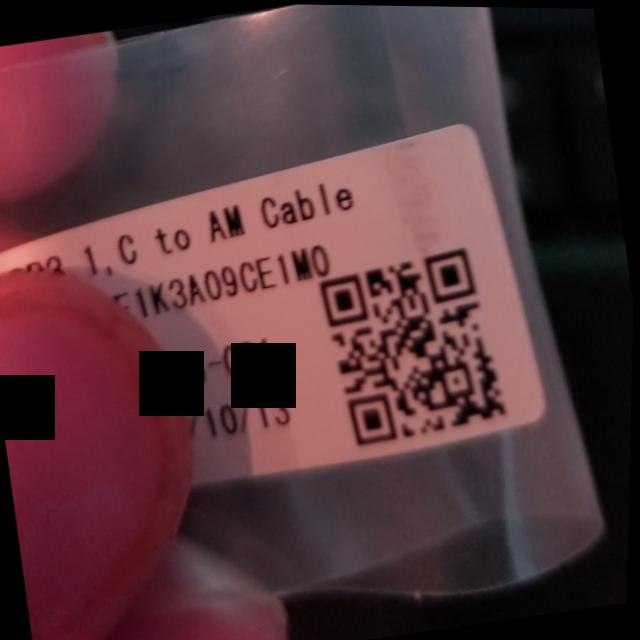QR_CODE: (302, 221, 527, 464)
